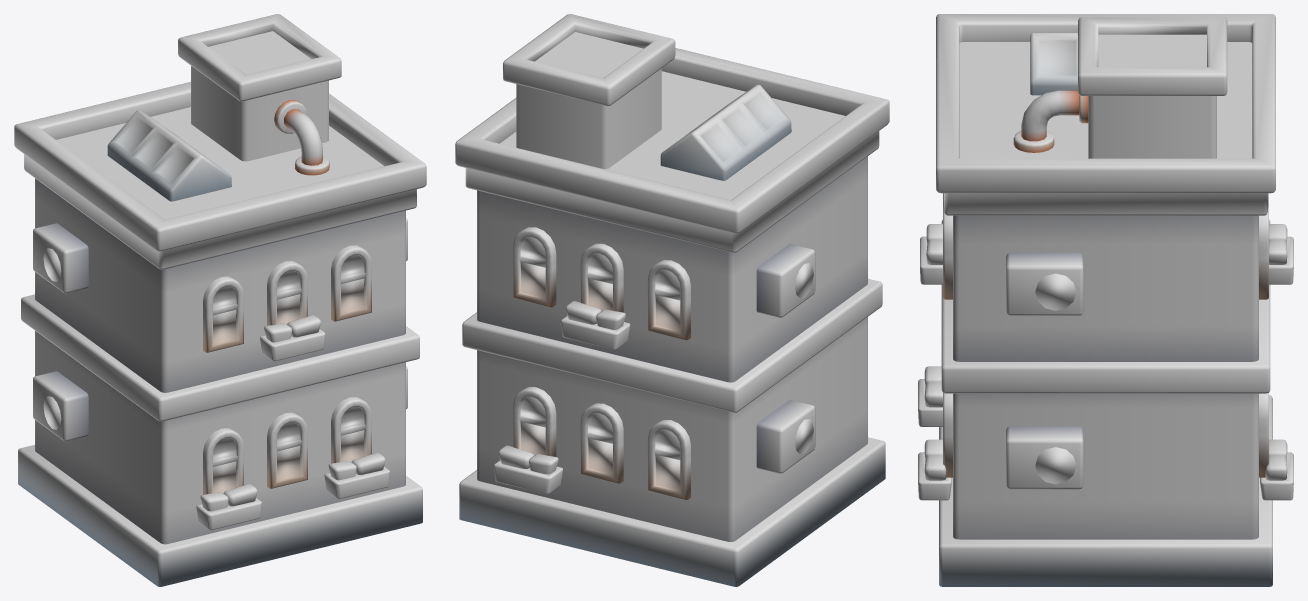
File: Building_061.fbx
The picture shows the model from 3 angles, left to right: view 1: azimuth 30°, elevation 25°; view 2: azimuth 150°, elevation 25°; view 3: azimuth 270°, elevation 25°; orthographic projection. The views are drawn at different scales.
Parts seen in each view (by area): view 1: Building_061; view 2: Building_061; view 3: Building_061.
Boxes of the visible parts, box(x1,y1,x2,y2) form: Building_061: box(14, 14, 426, 586); Building_061: box(455, 14, 889, 586); Building_061: box(918, 14, 1293, 586).
Bounding box in the file's own units: 780 × 737 × 1082.
